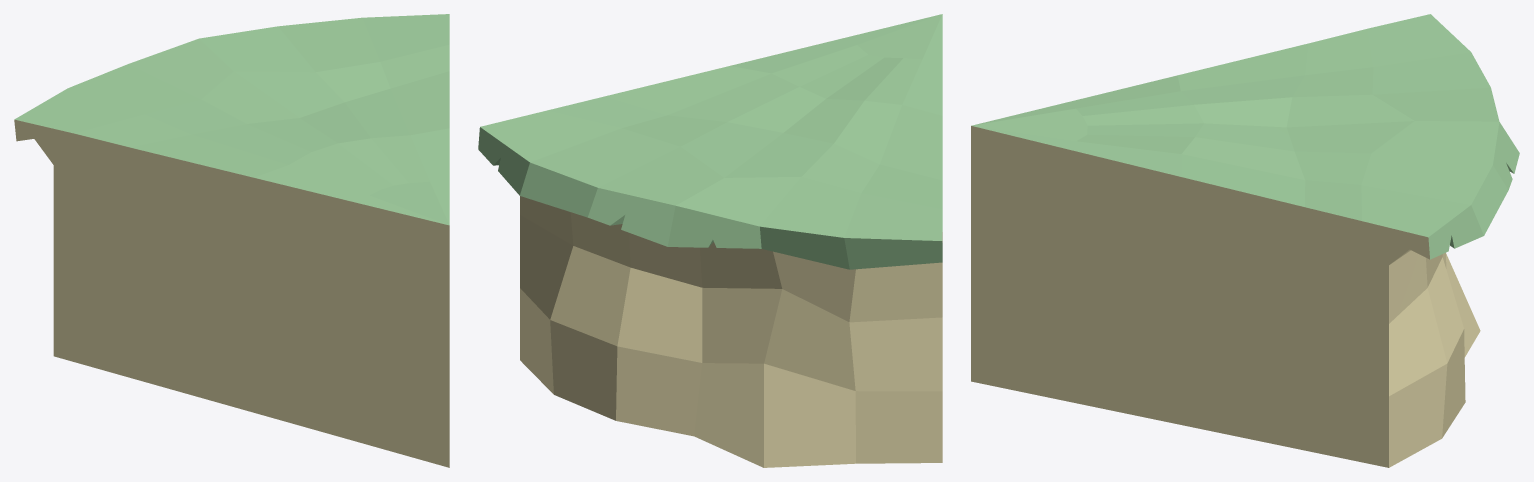
Rendered from tile2.glb.
3 views of the same model, side by side, from view 1: azimuth 30°, elevation 25°; view 2: azimuth 150°, elevation 25°; view 3: azimuth 270°, elevation 25° (orthographic). The views are drawn at different scales.
Visible parts, largest first — view 1: hill.004; view 2: hill.004; view 3: hill.004.
Boxes of the visible parts, left/top/right/bottom form: hill.004: left=14, top=14, right=449, bottom=467; hill.004: left=478, top=14, right=942, bottom=467; hill.004: left=971, top=14, right=1519, bottom=467.
Size of the model in its own units: 0.5496 by 0.2973 by 0.5687.
